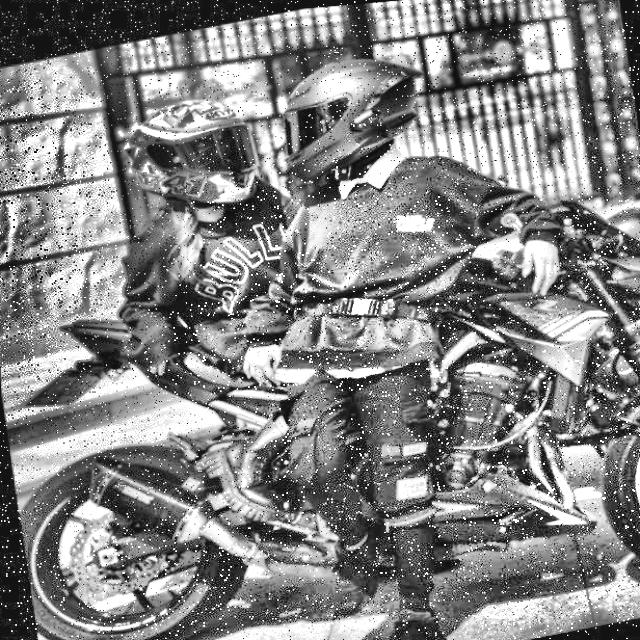Helmet: (268, 36, 440, 188), (107, 73, 270, 220)
